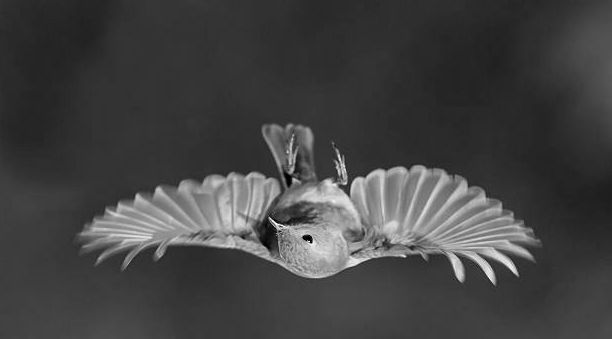Bird: (69, 119, 547, 292)
